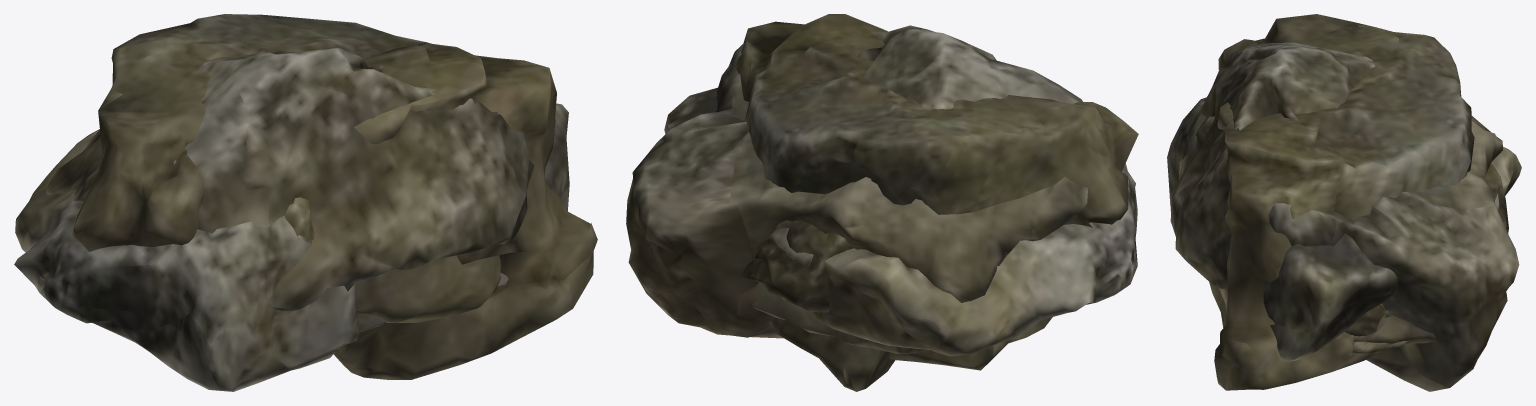
The model's file is rock_moss_set_02.glb.
3 views of the same model, side by side, from view 1: azimuth 30°, elevation 25°; view 2: azimuth 150°, elevation 25°; view 3: azimuth 270°, elevation 25° (orthographic). The views are drawn at different scales.
Parts seen in each view (by area): view 1: plant_3, plant_5, plant_4, plant_6, plant_2; view 2: plant_5, plant_3, plant_4, plant_2, plant_6; view 3: plant_3, plant_5, plant_4, plant_6, plant_2, plant_1.
Boxes of the visible parts, x1,y1,x2,y2 form: plant_3: [71, 14, 597, 379]; plant_5: [46, 48, 548, 310]; plant_4: [14, 103, 569, 391]; plant_6: [355, 255, 500, 322]; plant_2: [271, 197, 353, 328]; plant_5: [626, 25, 1087, 370]; plant_3: [735, 14, 1138, 391]; plant_4: [664, 87, 1137, 356]; plant_2: [740, 220, 854, 312]; plant_6: [752, 282, 924, 353]; plant_3: [1214, 14, 1474, 390]; plant_5: [1170, 42, 1519, 391]; plant_4: [1167, 97, 1521, 361]; plant_6: [1209, 282, 1437, 344]; plant_2: [1195, 115, 1508, 336]; plant_1: [1349, 341, 1407, 355].
Bounding box in the file's own units: 2.2 × 1.37 × 1.55.
1 material, 1 textured.
